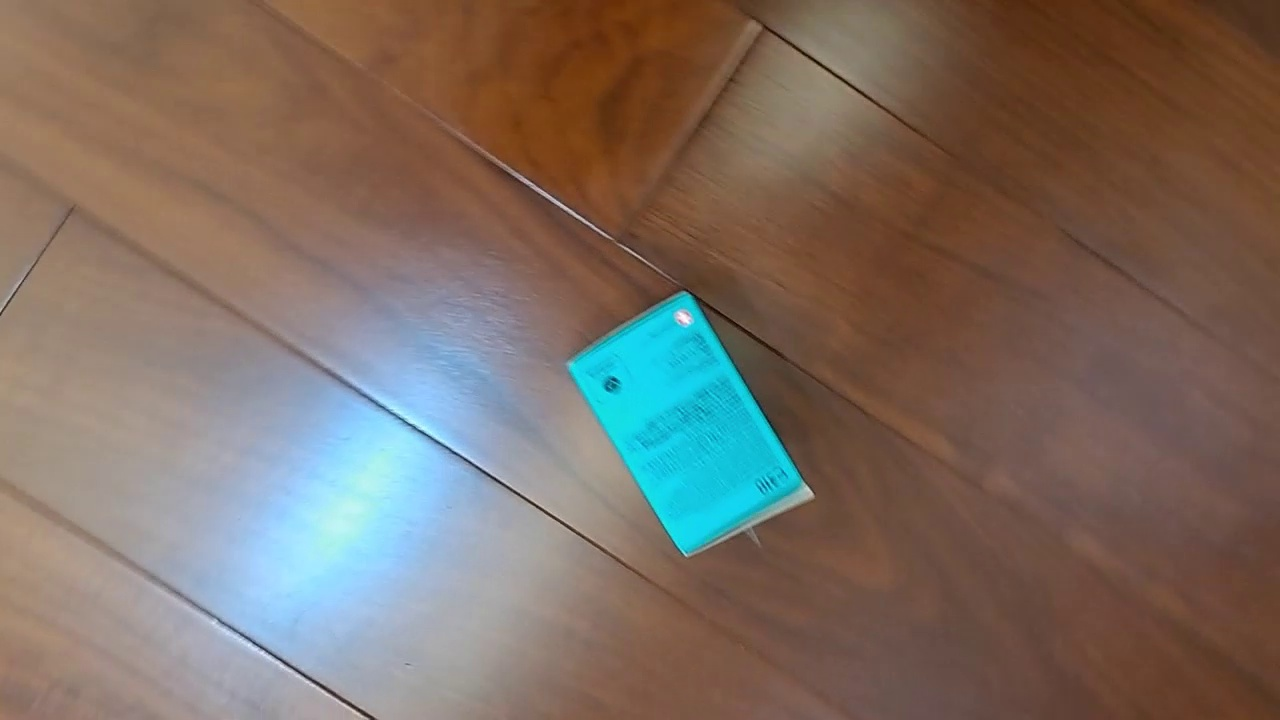webcam: (564, 288, 816, 560)
